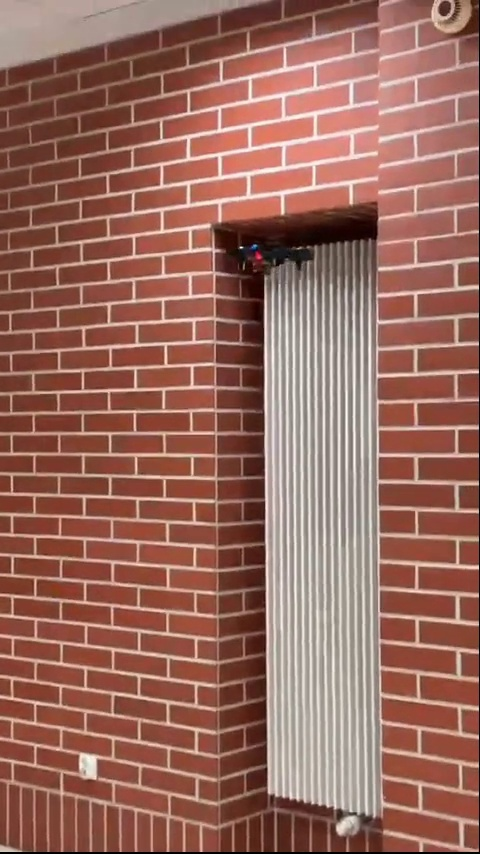drone: (226, 237, 324, 273)
